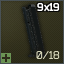MP-443 9x19 18-round magazine: (0, 0, 64, 64)
